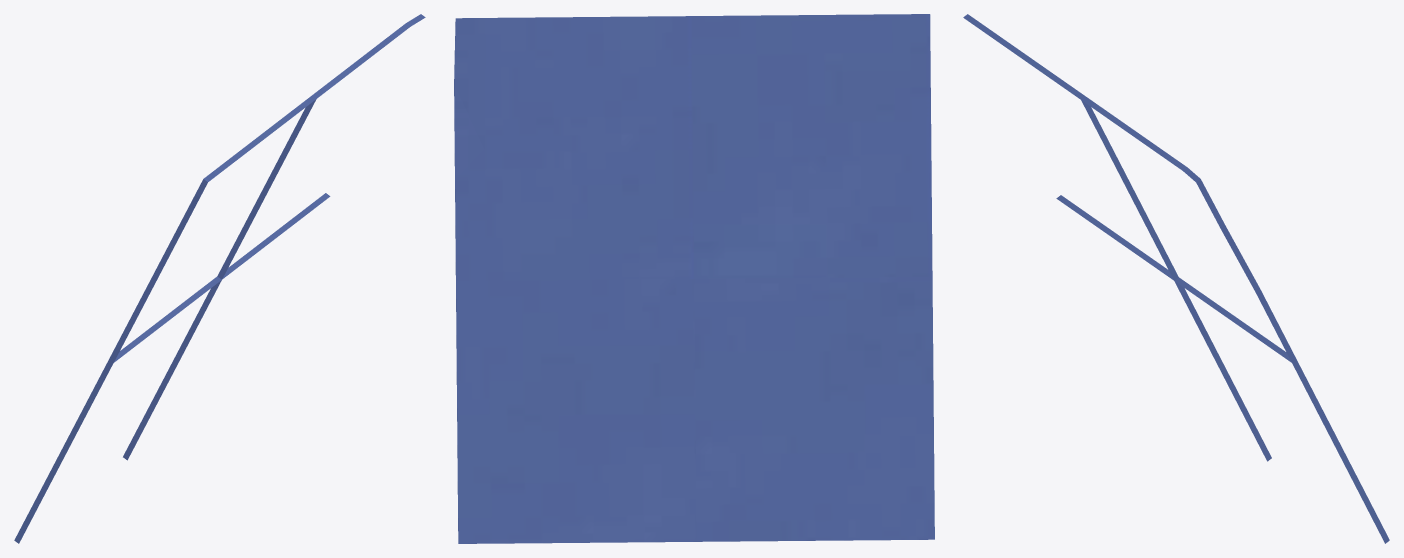
3 renders of one model, left to right at view 1: azimuth 30°, elevation 25°; view 2: azimuth 150°, elevation 25°; view 3: azimuth 270°, elevation 25°, orthographic. The views are drawn at different scales.
Bounding box in the file's own units: 19697 × 17763 × 16678.
Materials: 1 (1 with a texture image).
